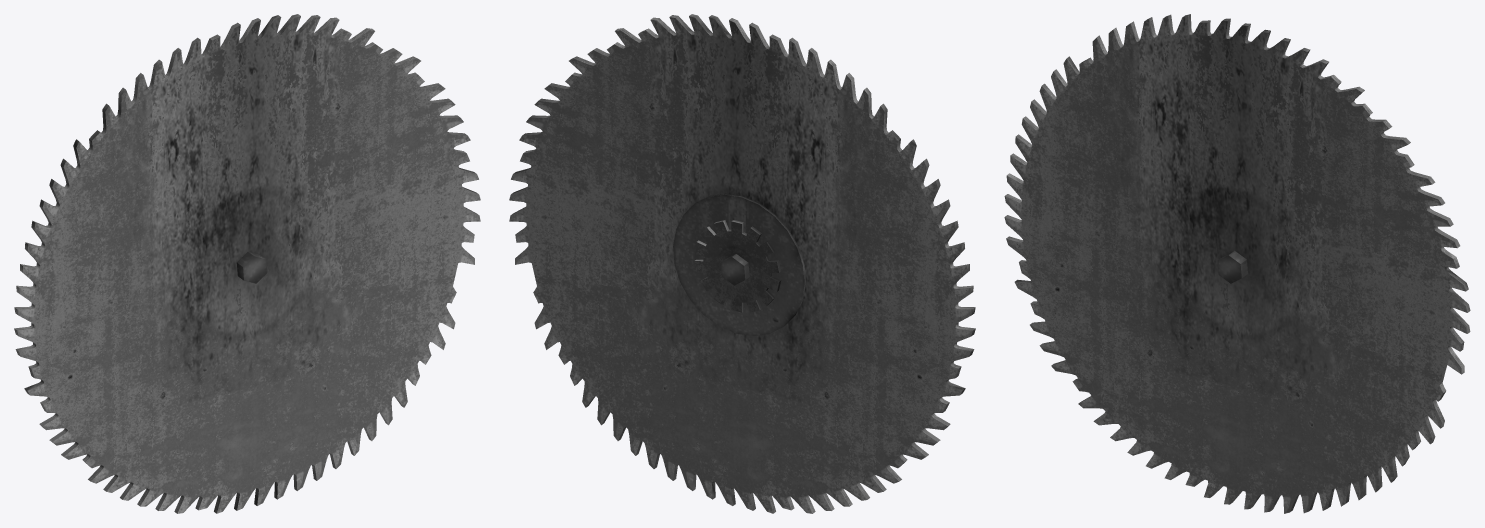
File: saw-N.fbx
The picture shows the model from 3 angles, left to right: view 1: azimuth 30°, elevation 25°; view 2: azimuth 150°, elevation 25°; view 3: azimuth 330°, elevation 25°; orthographic projection.
Visible parts, largest first — view 1: saw-N; view 2: saw-N; view 3: saw-N.
Part boxes in pixels (x1,y1,x2,y2): saw-N: [14, 14, 480, 513]; saw-N: [509, 14, 975, 513]; saw-N: [1004, 14, 1470, 513].
Bounding box in the file's own units: 882 × 882 × 56.86.
